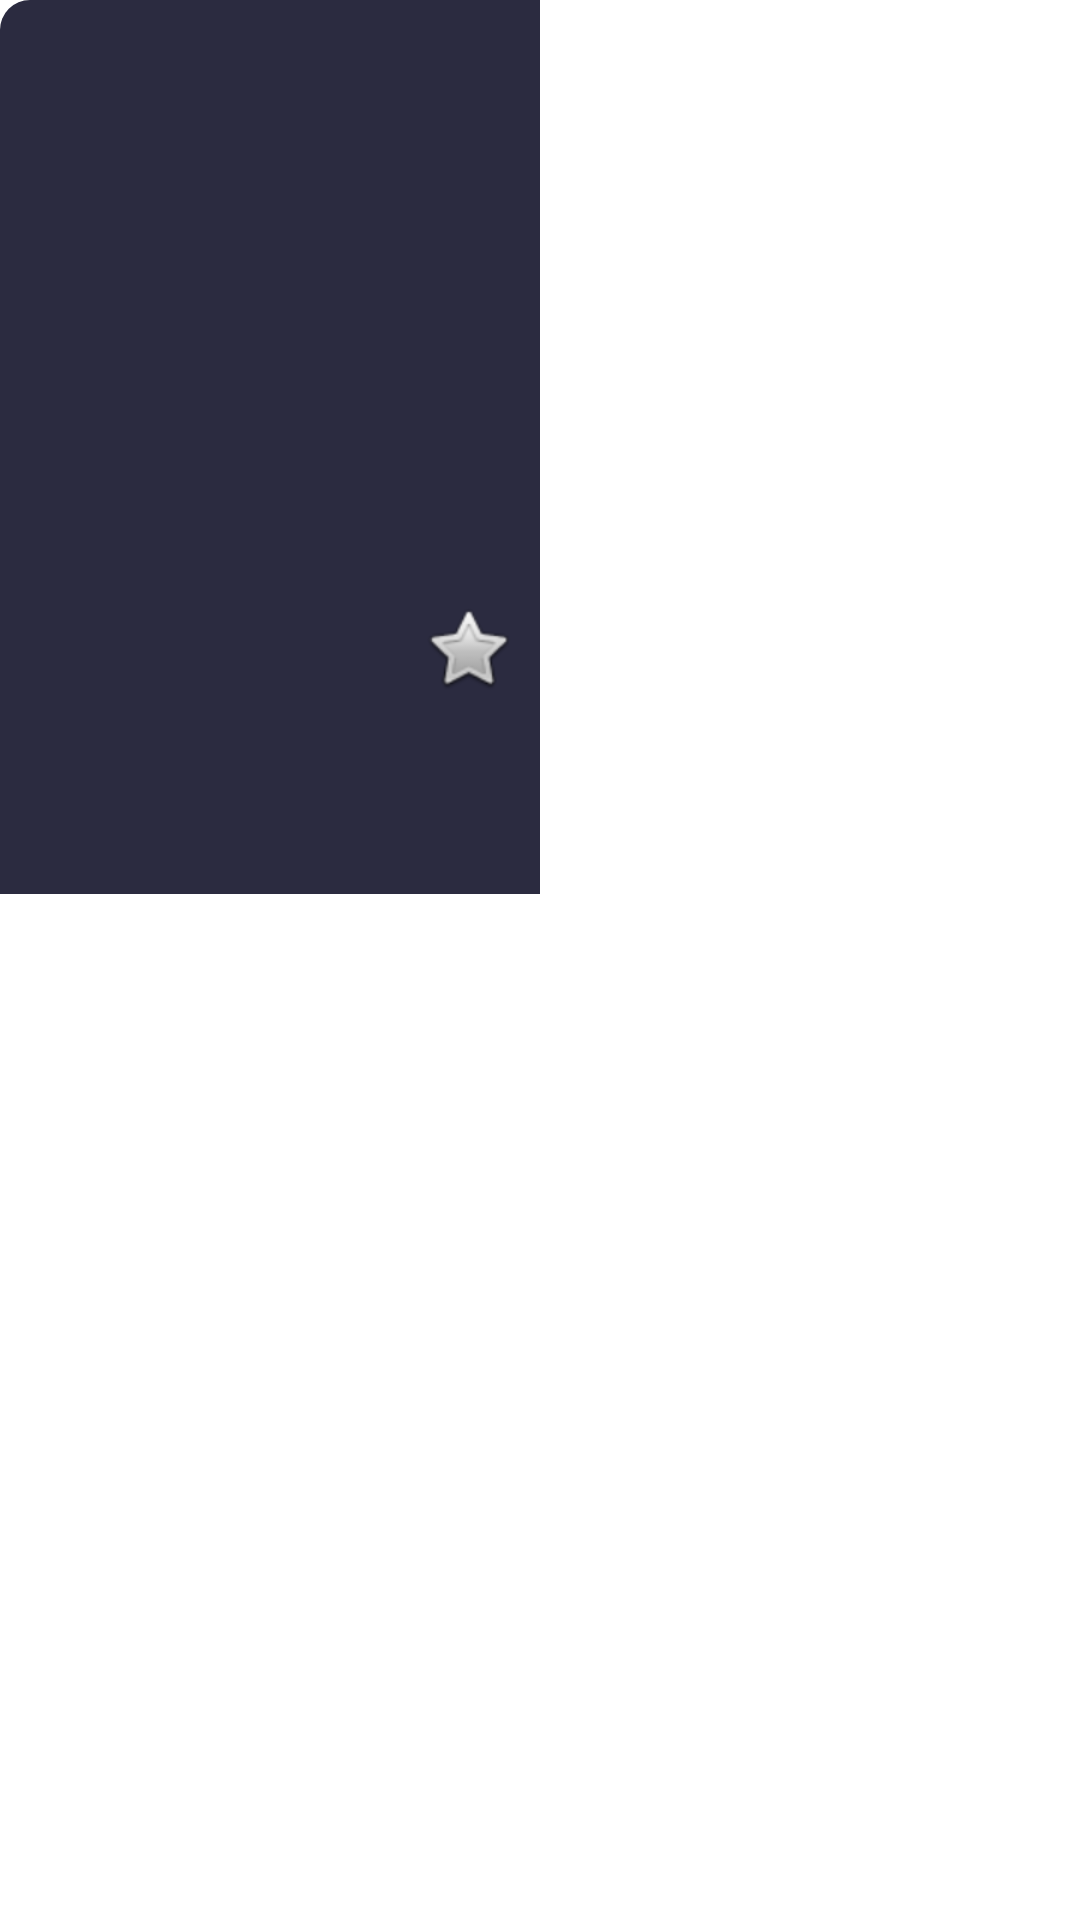

Icon bounding boxes for this 1080px x 1920px phone screenshot, format (x1, y1, x2, y2):
star off: (431, 611, 507, 684)
